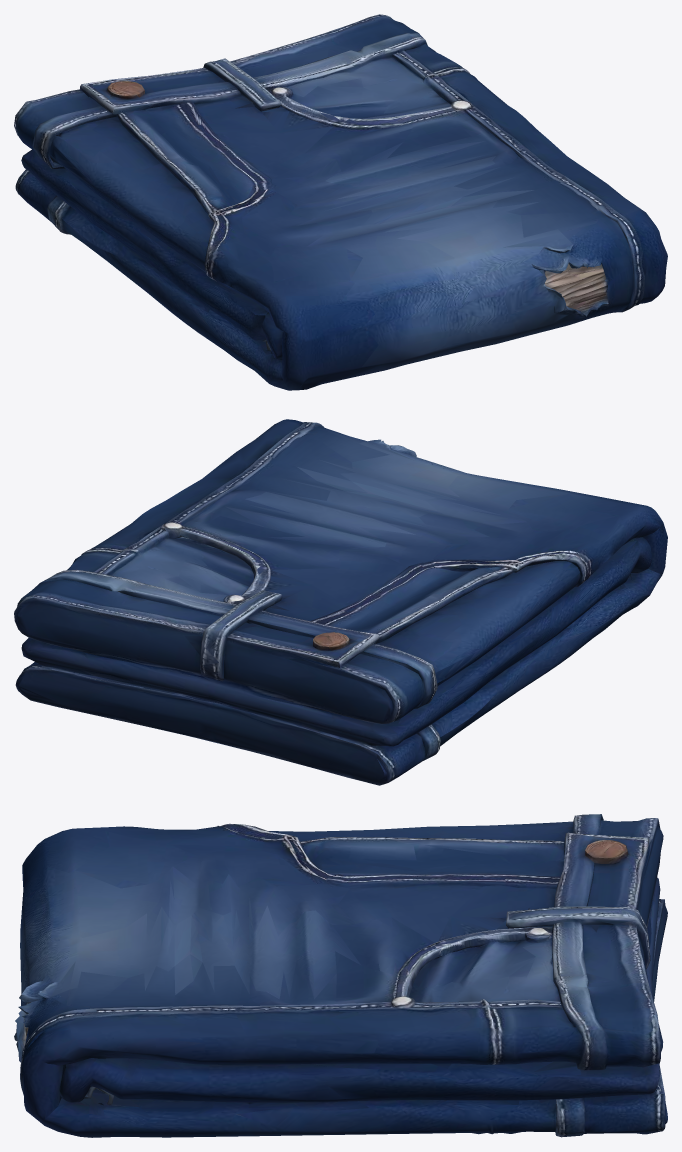
Rendered from cloth_pants_dzhinsy_idle.glb.
3 renders of one model, top to bottom at view 1: azimuth 30°, elevation 25°; view 2: azimuth 150°, elevation 25°; view 3: azimuth 270°, elevation 25°, orthographic. The views are drawn at different scales.
Visible parts, largest first — view 1: tripo_node_be88654f-5706-4182-8a89-2ceeec23bf1c; view 2: tripo_node_be88654f-5706-4182-8a89-2ceeec23bf1c; view 3: tripo_node_be88654f-5706-4182-8a89-2ceeec23bf1c.
Boxes of the visible parts, x1,y1,x2,y2 form: tripo_node_be88654f-5706-4182-8a89-2ceeec23bf1c: [14, 14, 667, 390]; tripo_node_be88654f-5706-4182-8a89-2ceeec23bf1c: [14, 419, 667, 785]; tripo_node_be88654f-5706-4182-8a89-2ceeec23bf1c: [14, 814, 667, 1137].
Bounding box in the file's own units: 2.75 × 0.7983 × 3.43.
1 material, 1 textured.
